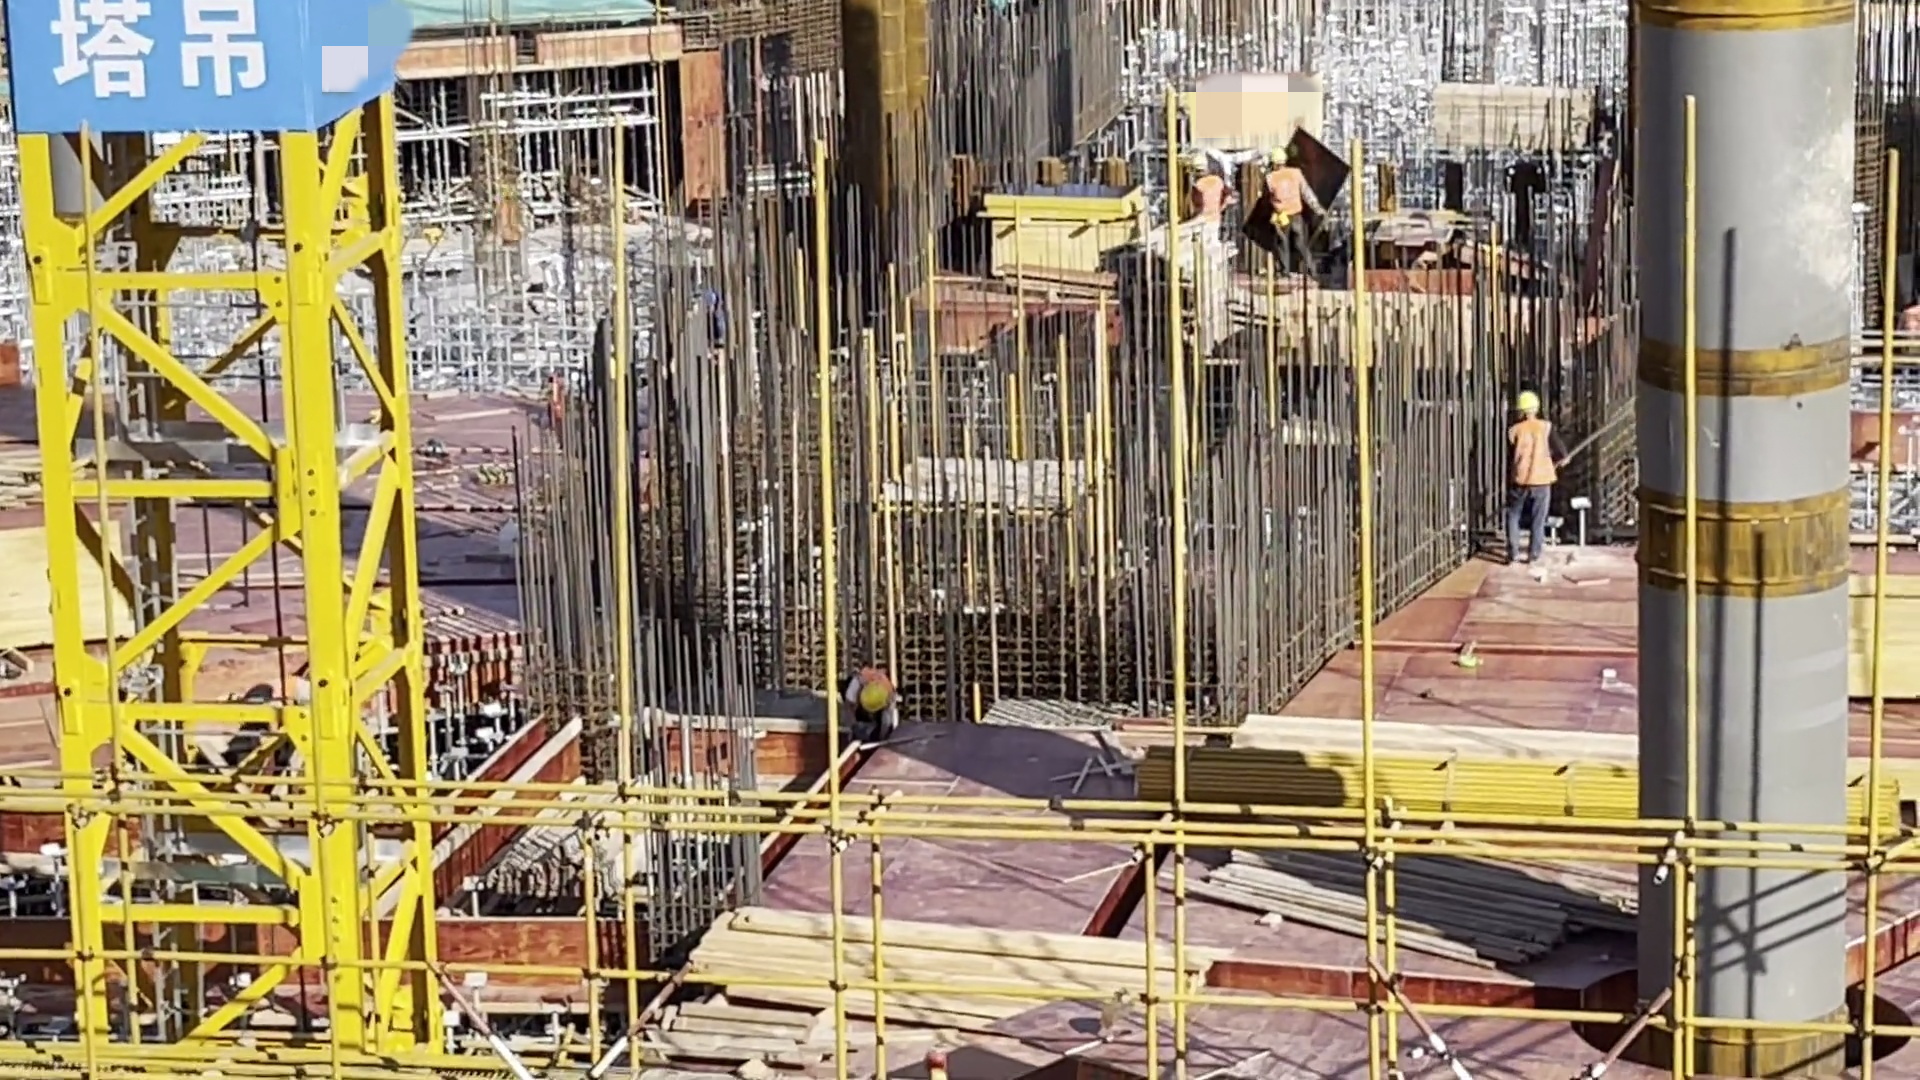board: (1, 502, 113, 672), (984, 195, 1143, 287), (1845, 548, 1920, 724)
helmet: (851, 677, 894, 713), (1513, 386, 1543, 418), (1191, 156, 1215, 183), (1269, 151, 1290, 170)
person: (1506, 384, 1566, 574), (1266, 145, 1325, 281), (213, 674, 327, 736), (1188, 156, 1243, 247), (843, 658, 906, 737)
slogan: (19, 1, 366, 130)
vest: (1510, 413, 1560, 489), (1265, 169, 1312, 222), (1189, 173, 1224, 228)
wood: (676, 903, 1181, 1037), (1413, 94, 1601, 155)
